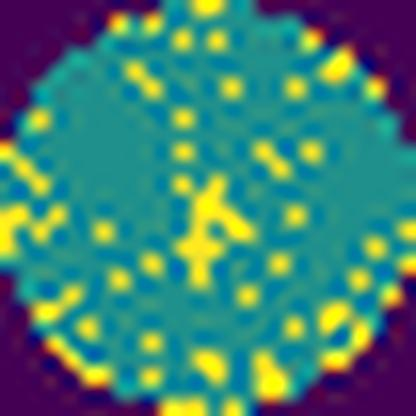Center: (177, 176, 252, 286)
